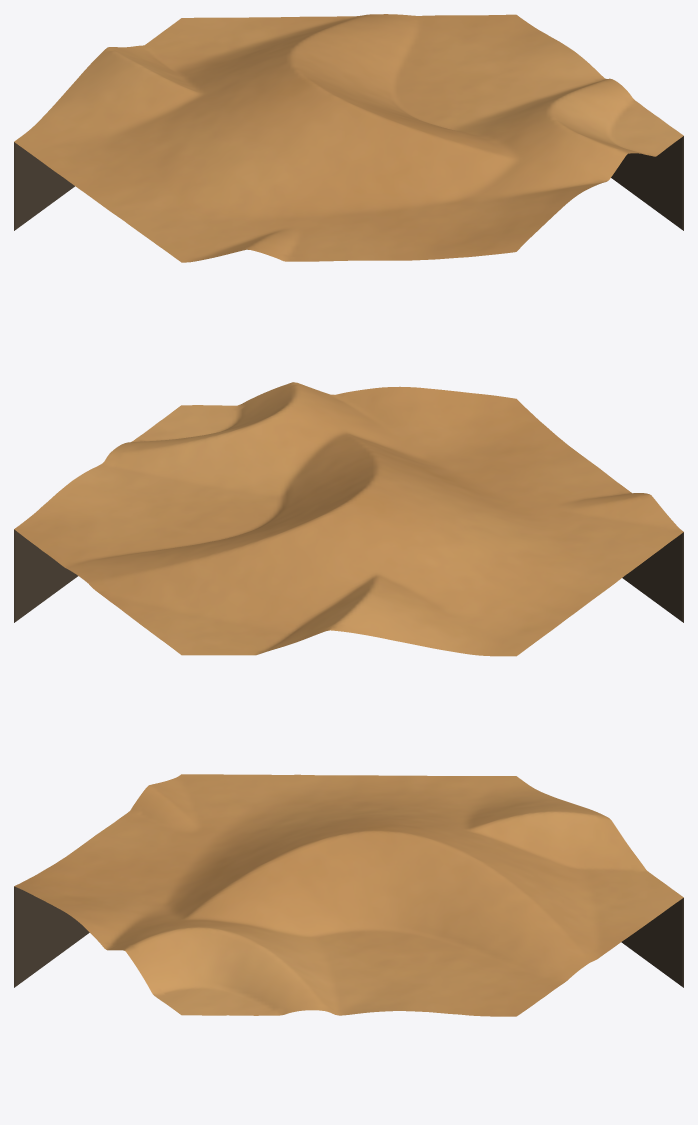
The picture shows the model from 3 angles, top to bottom: view 1: azimuth 30°, elevation 25°; view 2: azimuth 150°, elevation 25°; view 3: azimuth 270°, elevation 25°; orthographic projection.
Parts seen in each view (by area): view 1: terrain, hex_side_cut; view 2: terrain, hex_side_cut; view 3: terrain, hex_side_cut.
Boxes of the visible parts, x1,y1,x2,y2 form: terrain: (14,14,683,262); hex_side_cut: (14,136,683,230); terrain: (14,382,683,656); hex_side_cut: (14,529,683,622); terrain: (14,774,683,1016); hex_side_cut: (14,886,683,987).
Size of the model in its own units: 4330 by 1194 by 5000.
